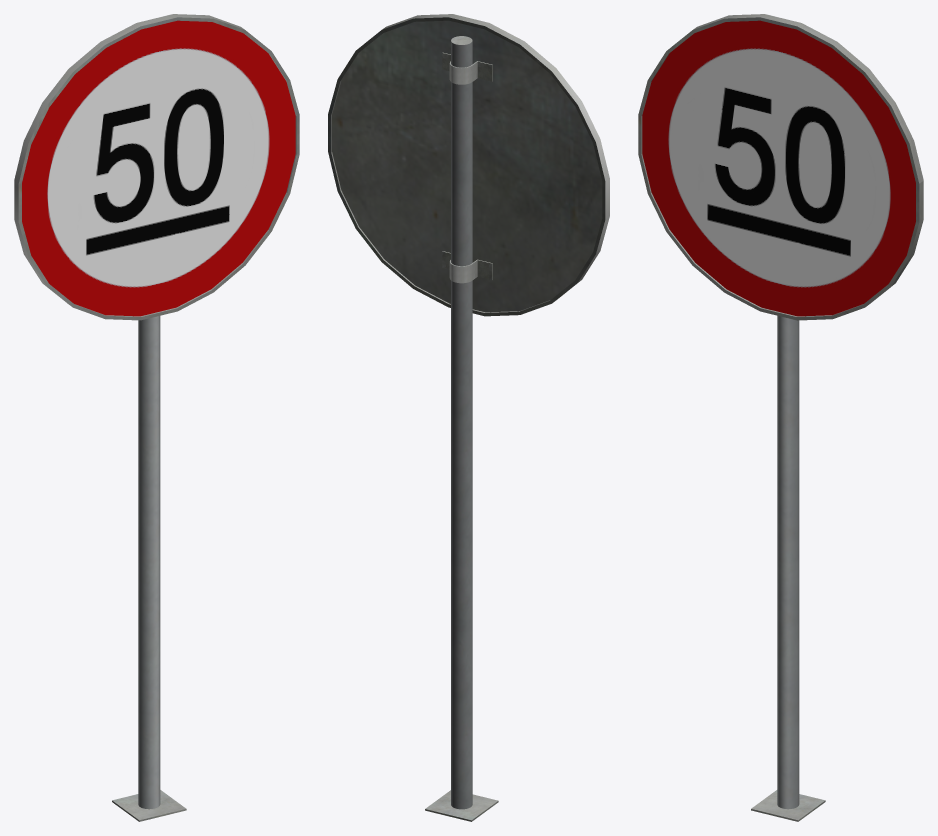
The picture shows the model from 3 angles, left to right: view 1: azimuth 30°, elevation 25°; view 2: azimuth 150°, elevation 25°; view 3: azimuth 330°, elevation 25°; orthographic projection.
Parts seen in each view (by area): view 1: MainBuilding; view 2: MainBuilding; view 3: MainBuilding.
Part boxes in pixels (<box>): MainBuilding: <box>14,14,299,821</box>; MainBuilding: <box>328,14,609,821</box>; MainBuilding: <box>638,14,923,821</box>.
Bounding box in the file's own units: 0.8923 × 2.4 × 0.15.
1 material, 1 textured.
